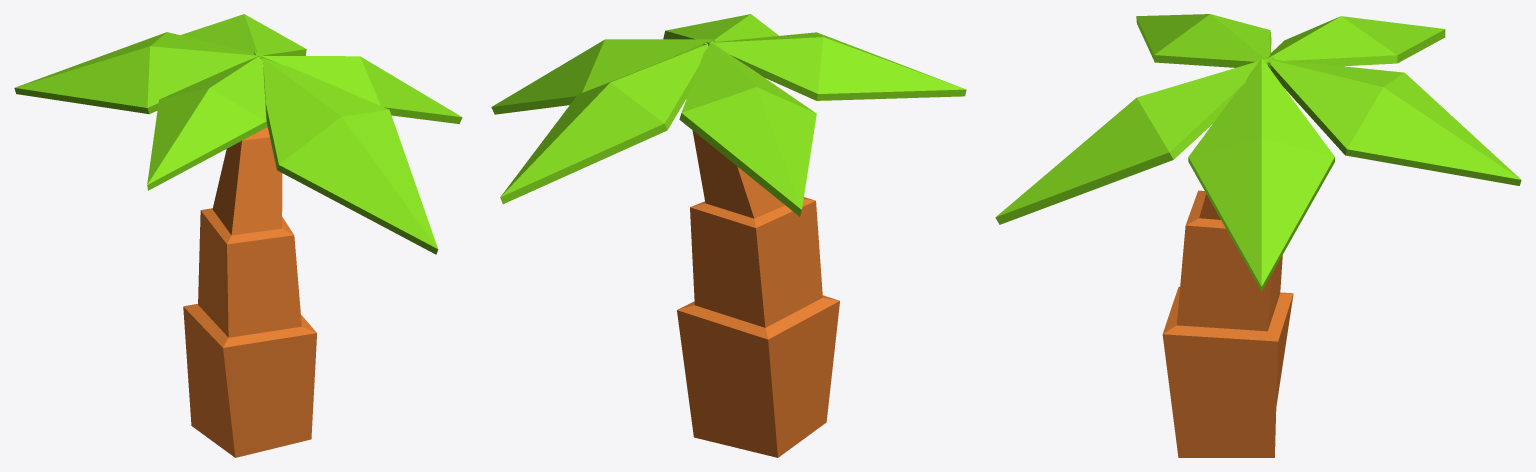
Rendered from Tree.fbx.
3 renders of one model, left to right at view 1: azimuth 30°, elevation 25°; view 2: azimuth 150°, elevation 25°; view 3: azimuth 270°, elevation 25°, orthographic. The views are drawn at different scales.
Visible parts, largest first — view 1: Cube.003, Cube; view 2: Cube.003, Cube; view 3: Cube.003, Cube.
Boxes of the visible parts, x1,y1,x2,y2 form: Cube.003: (14,14,462,254); Cube: (183,124,316,457); Cube.003: (491,14,966,216); Cube: (677,131,839,457); Cube.003: (995,14,1521,291); Cube: (1162,190,1293,457).
Size of the model in its own units: 641 by 595 by 715.
